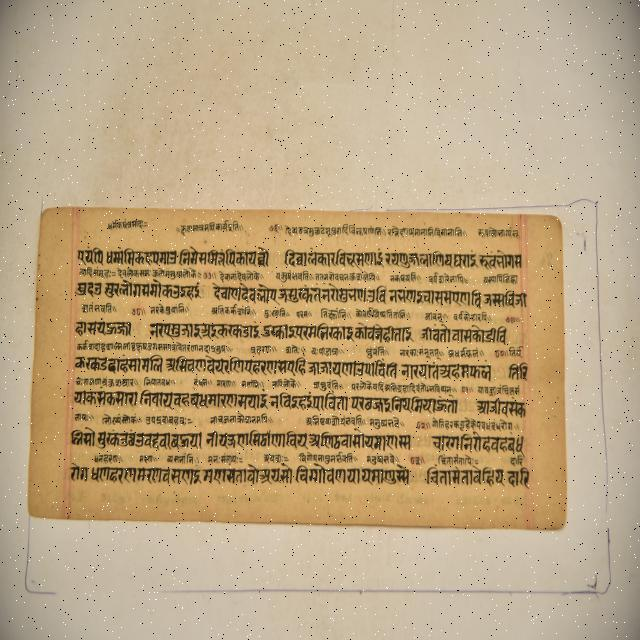text_paragraph: (28, 207, 563, 531)
